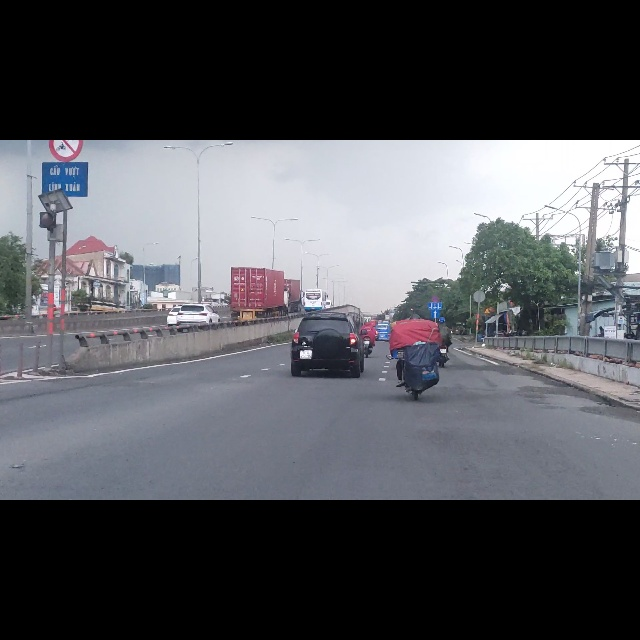bien_nguy_hiem: (431, 302, 440, 316)
